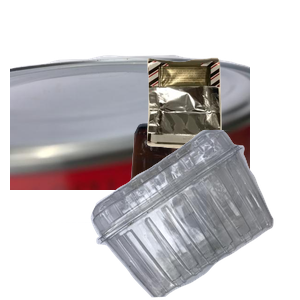glass: (29, 120, 242, 300)
metal: (10, 52, 250, 232)
plastic: (88, 130, 300, 300)
trash: (144, 55, 300, 197)
